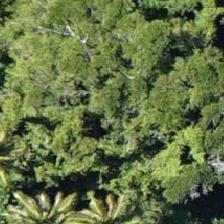coconut_tree: (62, 177, 152, 223)
